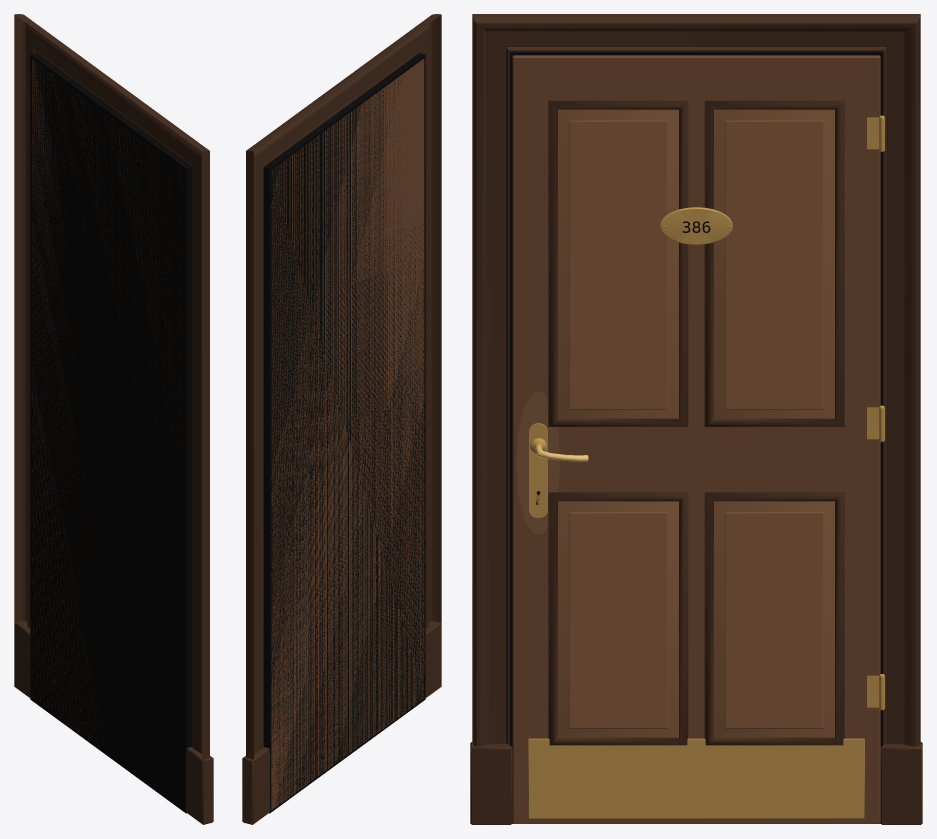
Rendered from hotel_door_a@3.glb.
3 renders of one model, left to right at view 1: azimuth 30°, elevation 25°; view 2: azimuth 150°, elevation 25°; view 3: azimuth 270°, elevation 25°, orthographic. The views are drawn at different scales.
Parts seen in each view (by area): view 1: fuge, bekleidung, blatt; view 2: fuge, blatt, bekleidung; view 3: fuellungen, blatt, bekleidung, kehlleisten, beschlag, fuge, abrieb, nummernschild.
Part boxes in pixels (<box>): fuge: <box>30,53,192,813</box>; bekleidung: <box>14,14,213,824</box>; blatt: <box>31,59,184,752</box>; fuge: <box>263,53,425,813</box>; blatt: <box>271,58,424,810</box>; bekleidung: <box>242,14,441,824</box>; fuellungen: <box>558,109,834,737</box>; blatt: <box>512,55,880,823</box>; bekleidung: <box>470,14,922,824</box>; kehlleisten: <box>548,100,844,745</box>; beschlag: <box>528,115,884,818</box>; fuge: <box>510,51,882,823</box>; abrieb: <box>516,392,560,533</box>; nummernschild: <box>660,207,732,244</box>.
Bounding box in the file's own units: 0.1118 × 2.22 × 1.13.
